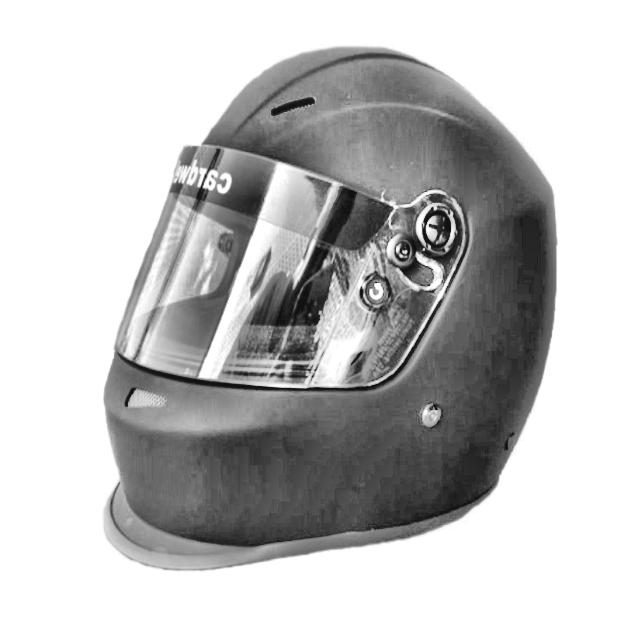Helmet: (87, 42, 563, 575)
